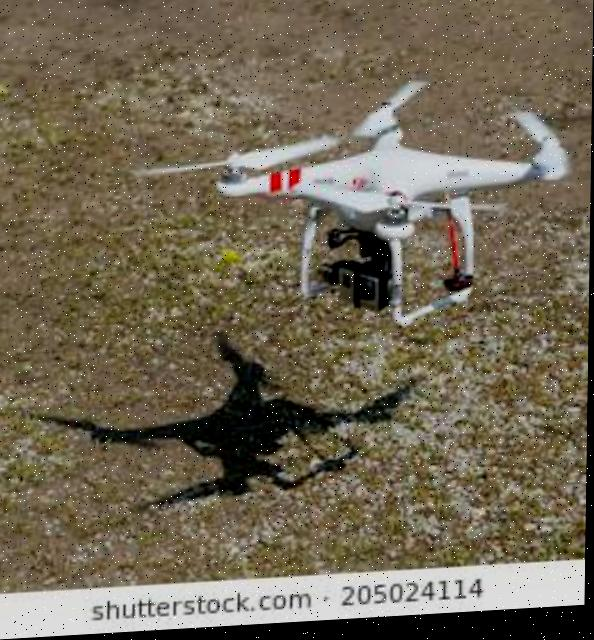drone: (128, 39, 593, 359)
